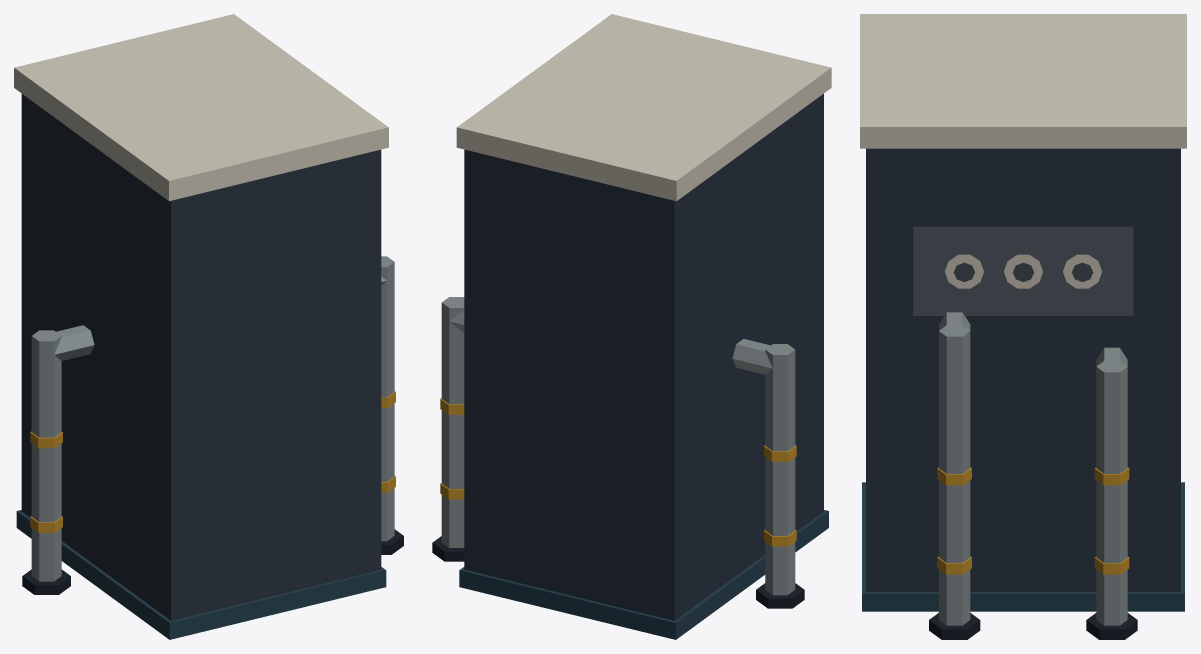
File: gerador_motor.glb
The picture shows the model from 3 angles, left to right: view 1: azimuth 30°, elevation 25°; view 2: azimuth 150°, elevation 25°; view 3: azimuth 270°, elevation 25°; orthographic projection. The views are drawn at different scales.
Visible parts, largest first — view 1: gerador_motor_malha; view 2: gerador_motor_malha; view 3: gerador_motor_malha, luzes_apagadas_malha.
Part boxes in pixels (x1,y1,x2,y2): gerador_motor_malha: (14,14,403,639); gerador_motor_malha: (432,14,831,639); gerador_motor_malha: (860,14,1186,639); luzes_apagadas_malha: (953,262,1093,281).
Size of the model in its own units: 2.03 by 2.72 by 1.66.
